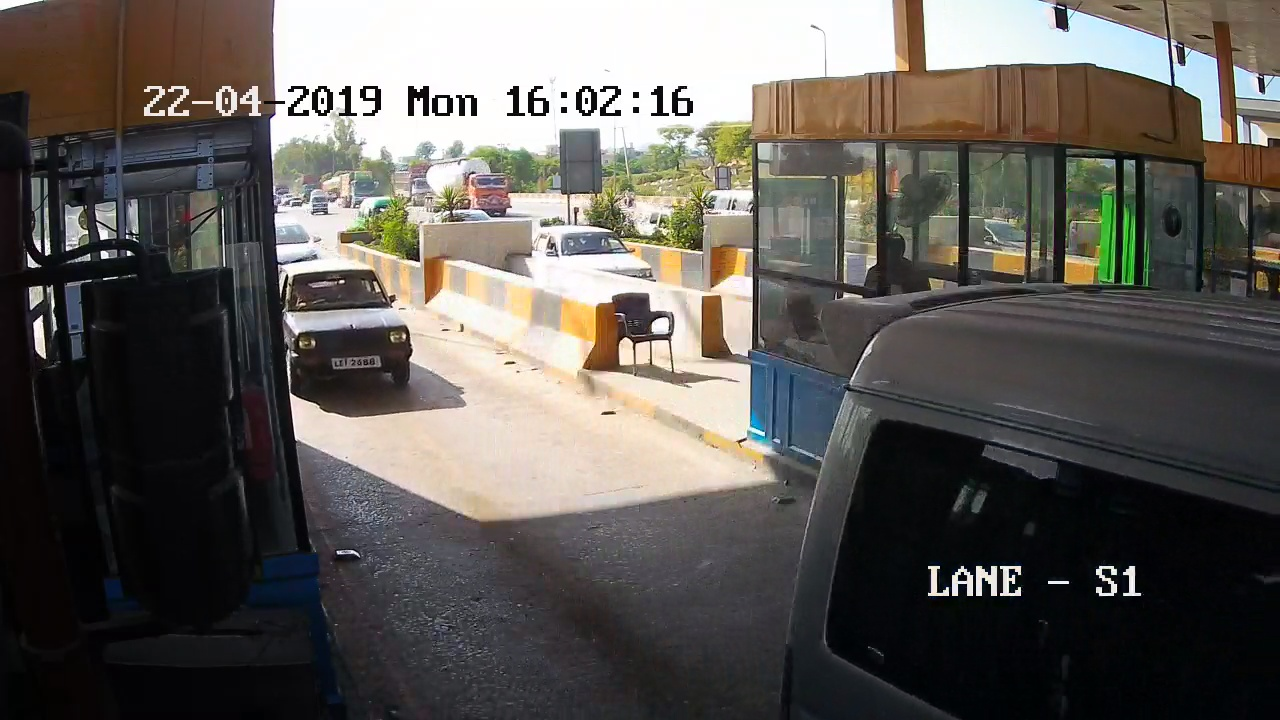car: (275, 270, 425, 407)
